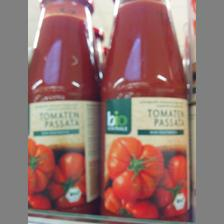Tomatensauce: (97, 0, 191, 224), (28, 0, 100, 214)
